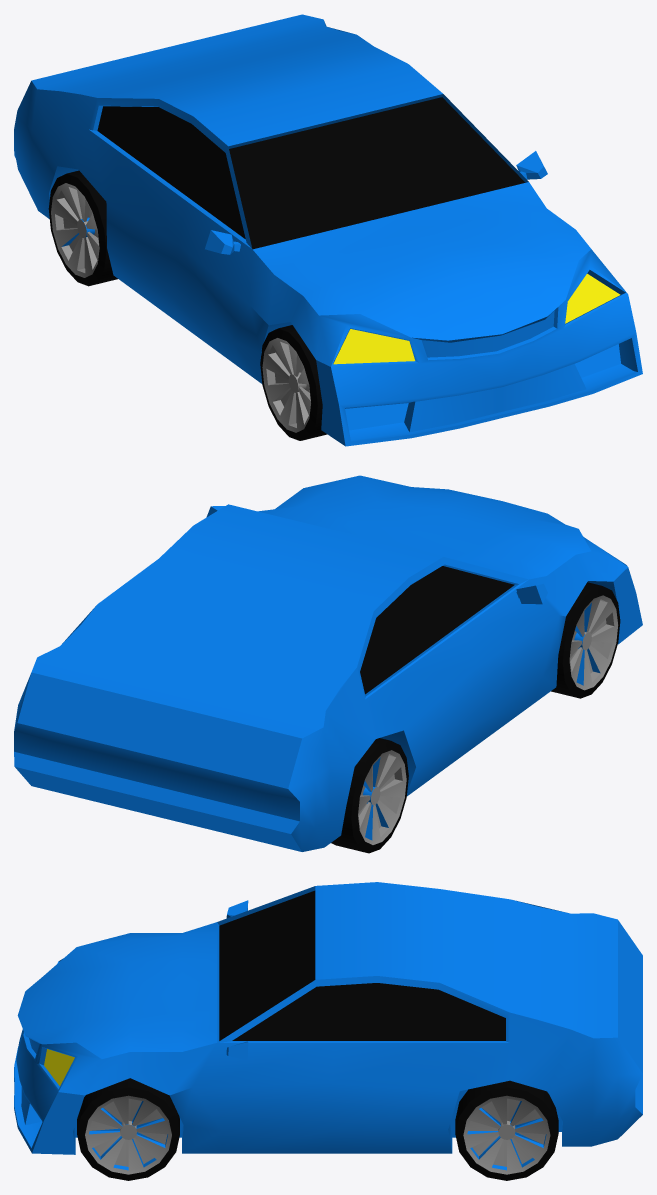
Rendered from Car1.fbx.
3 renders of one model, top to bottom at view 1: azimuth 30°, elevation 25°; view 2: azimuth 150°, elevation 25°; view 3: azimuth 270°, elevation 25°, orthographic. The views are drawn at different scales.
Visible parts, largest first — view 1: Cube.008; view 2: Cube.008; view 3: Cube.008.
Part boxes in pixels (box(x1,y1,x2,y2)): Cube.008: box(14, 14, 642, 446); Cube.008: box(14, 475, 642, 853); Cube.008: box(14, 882, 642, 1180).
Size of the model in its own units: 230 by 135 by 414.
